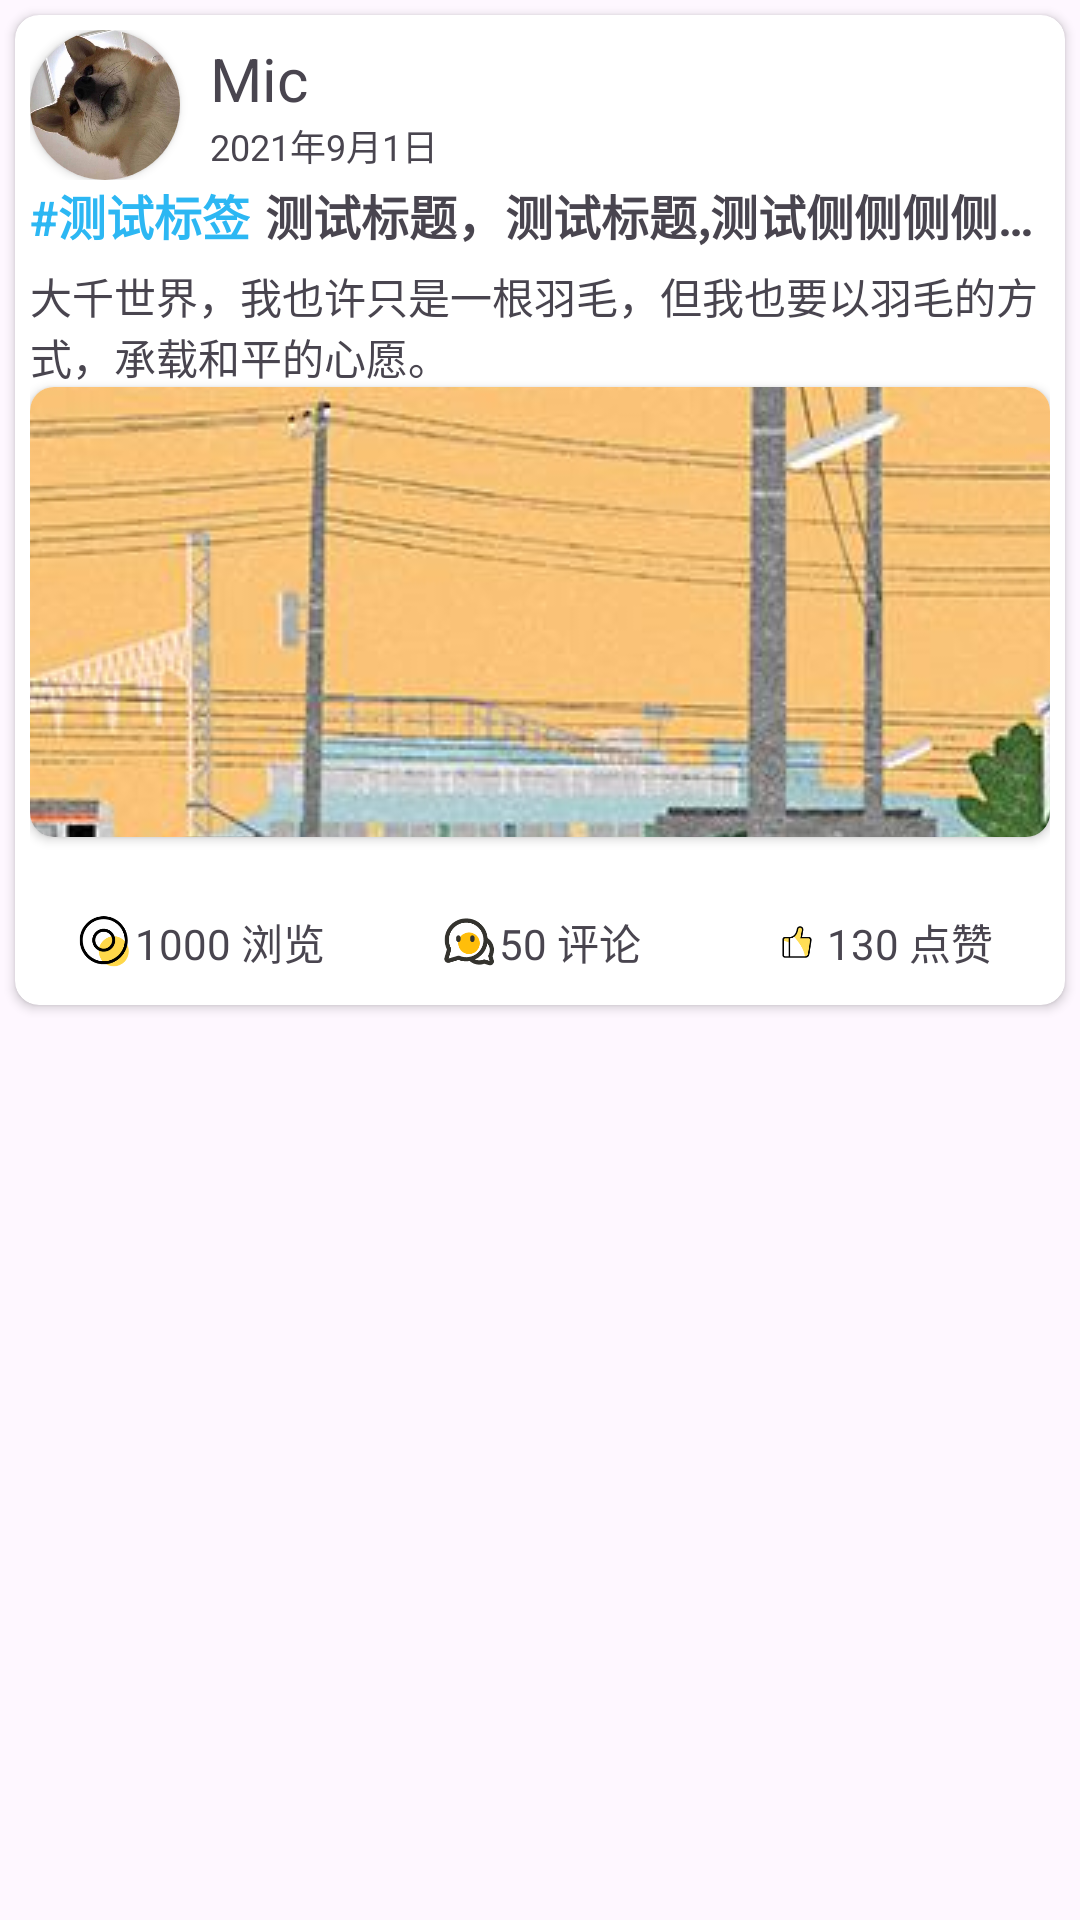

Where to tap for icons on this 1080×1920 app screen, as (x=x, y=y):
dianzan: (x=797, y=942)
liulan: (x=104, y=941)
pinglun: (x=469, y=942)
user: (x=105, y=105)
